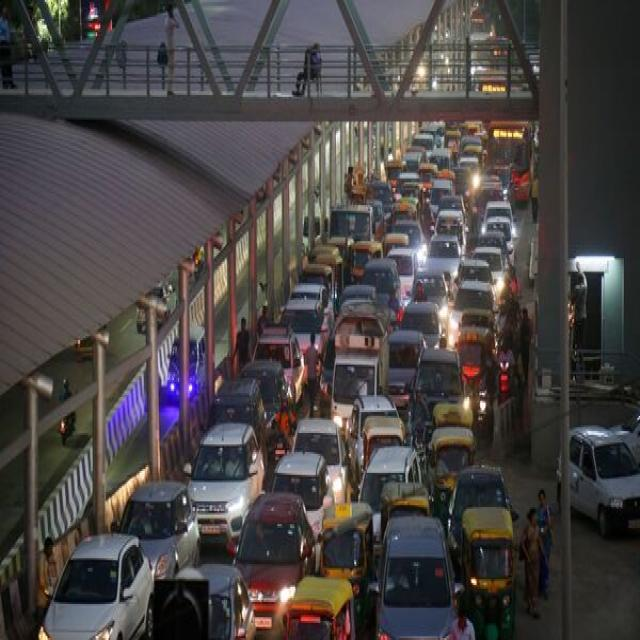autorikshaw: (456, 506, 521, 640), (322, 505, 372, 619), (382, 480, 437, 564), (283, 577, 354, 640), (428, 422, 475, 516), (435, 402, 478, 485), (352, 236, 384, 288)
car: (40, 529, 150, 640), (230, 497, 318, 633), (118, 479, 198, 581), (192, 421, 263, 535)
